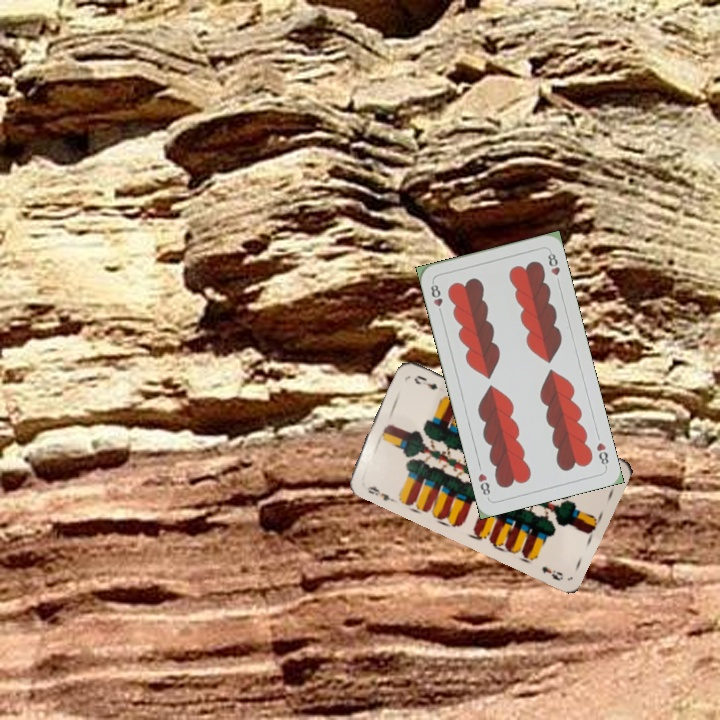E9: (363, 482, 396, 504)
H8: (427, 278, 445, 318), (592, 438, 611, 470)
